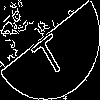T: (25, 24, 70, 80)
